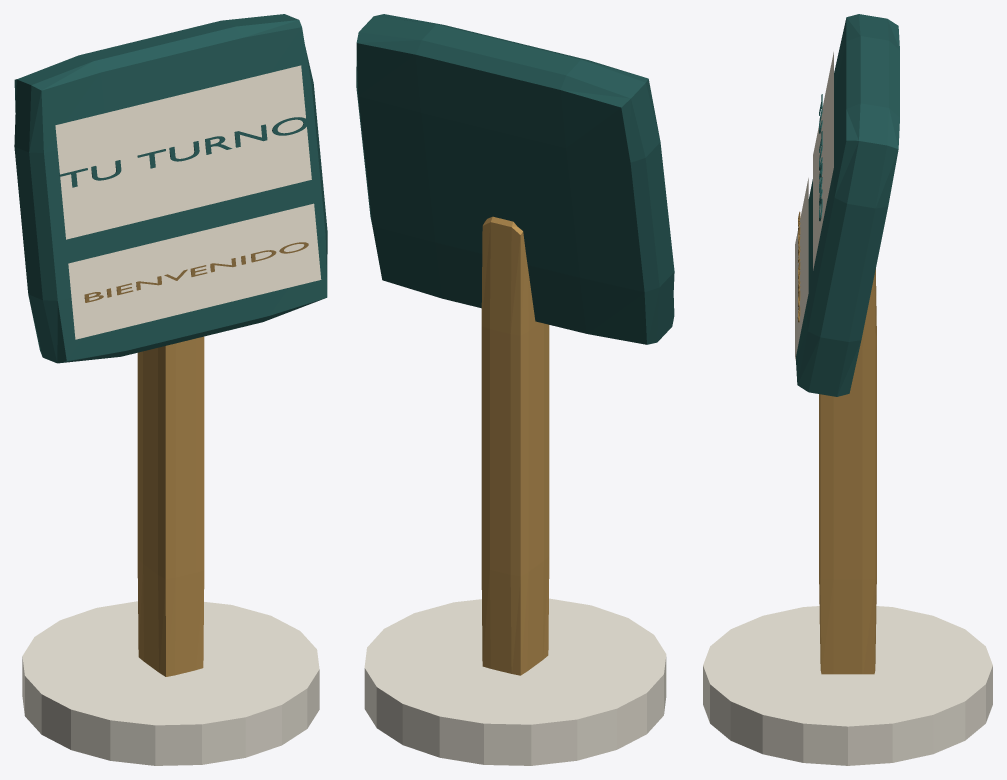
The model's file is best.glb.
3 renders of one model, left to right at view 1: azimuth 30°, elevation 25°; view 2: azimuth 150°, elevation 25°; view 3: azimuth 270°, elevation 25°, orthographic. The views are drawn at different scales.
Visible parts, largest first — view 1: Native component 2, Native component 0, Native component 3, Native component 1, Native component 4, Sign TU TURNO, Sign BIENVENIDO; view 2: Native component 2, Native component 0, Native component 1; view 3: Native component 0, Native component 2, Native component 1, Native component 3, Native component 4.
Boxes of the visible parts, x1,y1,x2,y2 form: Native component 2: [14, 14, 327, 363]; Native component 0: [22, 601, 319, 765]; Native component 3: [55, 65, 311, 239]; Native component 1: [137, 336, 204, 676]; Native component 4: [68, 203, 321, 339]; Sign TU TURNO: [59, 117, 308, 187]; Sign BIENVENIDO: [84, 242, 308, 302]; Native component 2: [356, 14, 674, 344]; Native component 0: [364, 598, 666, 765]; Native component 1: [481, 216, 549, 675]; Native component 0: [703, 606, 992, 765]; Native component 2: [796, 14, 899, 396]; Native component 1: [819, 269, 876, 674]; Native component 3: [813, 52, 833, 270]; Native component 4: [795, 178, 808, 360].
Size of the model in its own units: 0.66 by 1.45 by 0.6.
